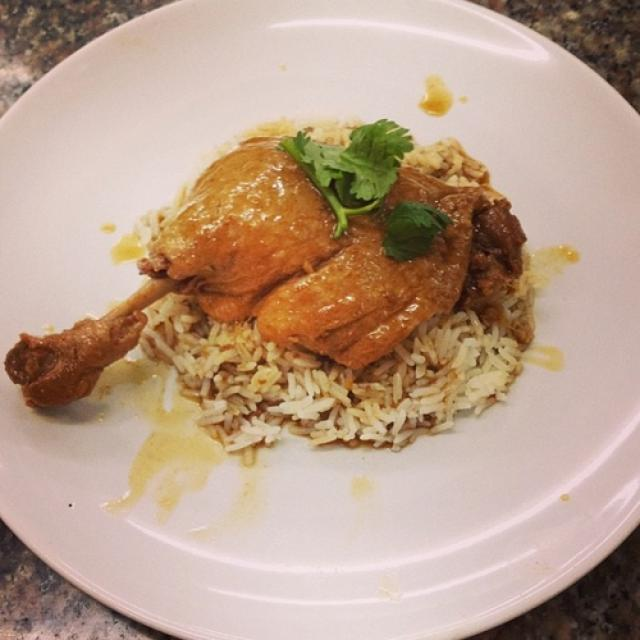米饭主食: (8, 111, 553, 464)
